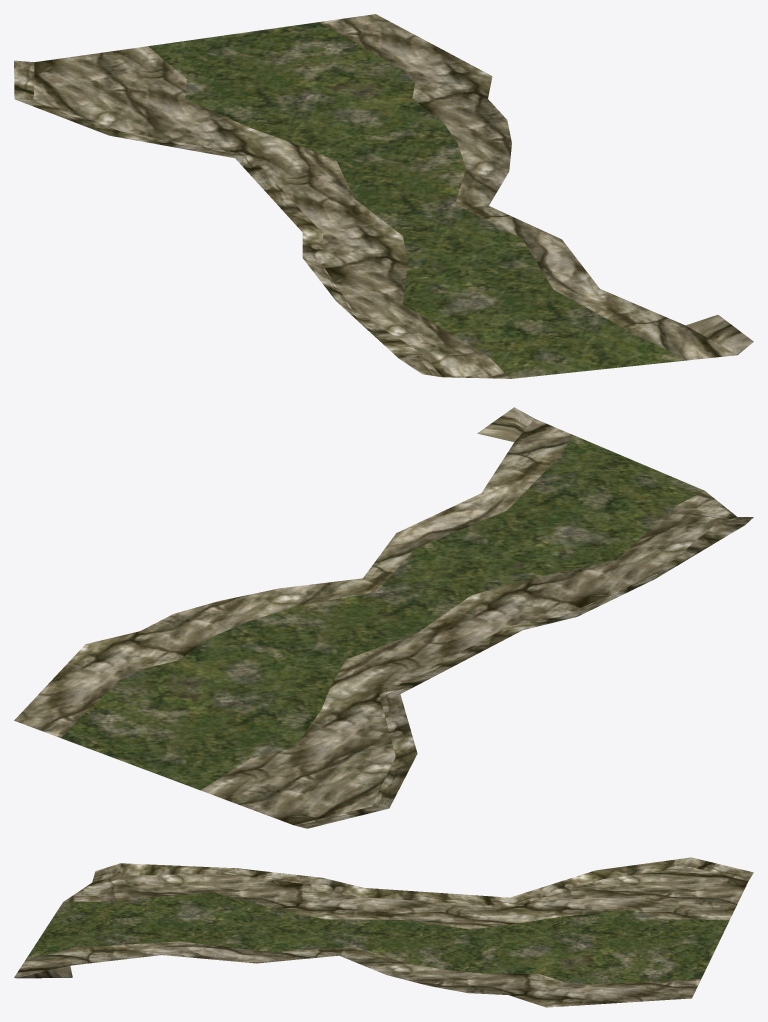
Rendered from CB_NEWPLAYSURFACE_CB_PLAYSURFACE11.fbx.
The picture shows the model from 3 angles, top to bottom: view 1: azimuth 30°, elevation 25°; view 2: azimuth 150°, elevation 25°; view 3: azimuth 270°, elevation 25°; orthographic projection. The views are drawn at different scales.
Visible parts, largest first — view 1: CB_NEWPLAYSURFACE_CB_PLAYSURFACE11; view 2: CB_NEWPLAYSURFACE_CB_PLAYSURFACE11; view 3: CB_NEWPLAYSURFACE_CB_PLAYSURFACE11.
Part boxes in pixels (x1,y1,x2,y2): CB_NEWPLAYSURFACE_CB_PLAYSURFACE11: (14,14,753,378); CB_NEWPLAYSURFACE_CB_PLAYSURFACE11: (14,407,753,828); CB_NEWPLAYSURFACE_CB_PLAYSURFACE11: (14,857,753,1007).
Size of the model in its own units: 126864 by 4239 by 268779.
Materials: 2 (2 with a texture image).
